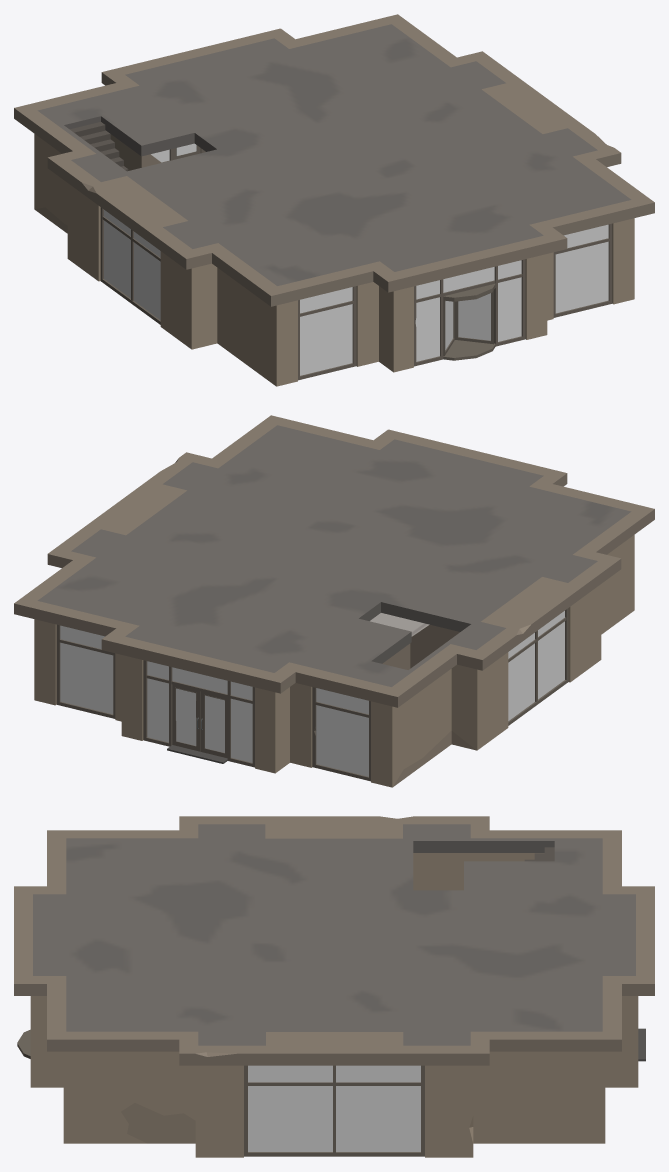
File: SM_Bldg_City_Commercial_01_Base.fbx
3 views of the same model, one above another, from view 1: azimuth 30°, elevation 25°; view 2: azimuth 150°, elevation 25°; view 3: azimuth 270°, elevation 25° (orthographic). The views are drawn at different scales.
Visible parts, largest first — view 1: SM_Bldg_City_Commercial_01_Base, SM_Bldg_City_Commercial_01_Base_Glass; view 2: SM_Bldg_City_Commercial_01_Base, SM_Bldg_City_Commercial_01_Base_Glass; view 3: SM_Bldg_City_Commercial_01_Base, SM_Bldg_City_Commercial_01_Base_Glass.
Boxes of the visible parts, x1,y1,x2,y2 form: SM_Bldg_City_Commercial_01_Base: (14,14,654,386); SM_Bldg_City_Commercial_01_Base_Glass: (104,149,608,375); SM_Bldg_City_Commercial_01_Base: (14,415,654,787); SM_Bldg_City_Commercial_01_Base_Glass: (60,611,564,776); SM_Bldg_City_Commercial_01_Base: (14,816,654,1157); SM_Bldg_City_Commercial_01_Base_Glass: (248,1065,420,1151).
Size of the model in its own units: 1700 by 370 by 1940.
